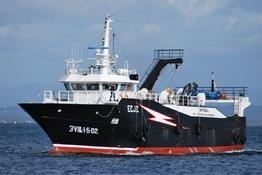otherboat: (15, 12, 252, 159)
